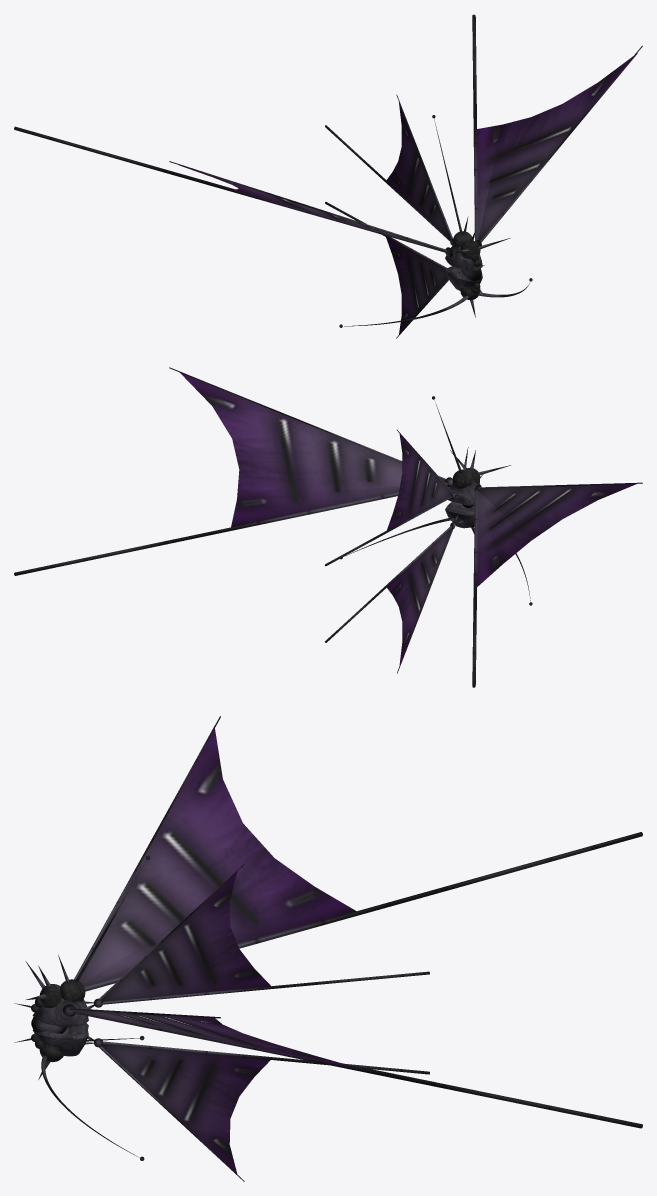
File: gaozong.obj
3 views of the same model, one above another, from view 1: azimuth 30°, elevation 25°; view 2: azimuth 150°, elevation 25°; view 3: azimuth 270°, elevation 25° (orthographic). The views are drawn at different scales.
Size of the model in its own units: 31.41 by 15.86 by 27.69.
Materials: 1 (1 with a texture image).
